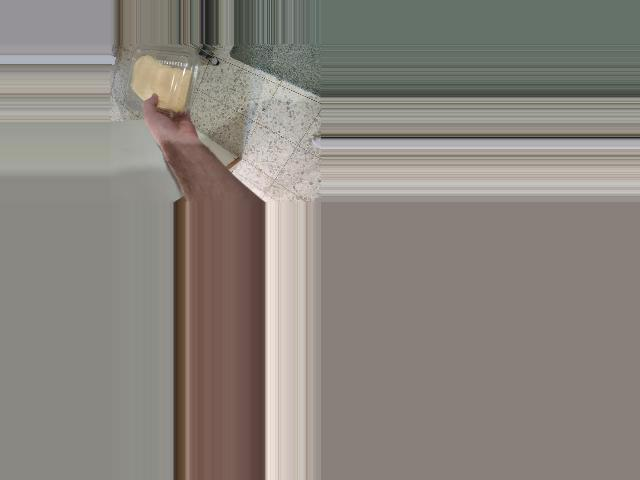cheese: (128, 50, 198, 114)
